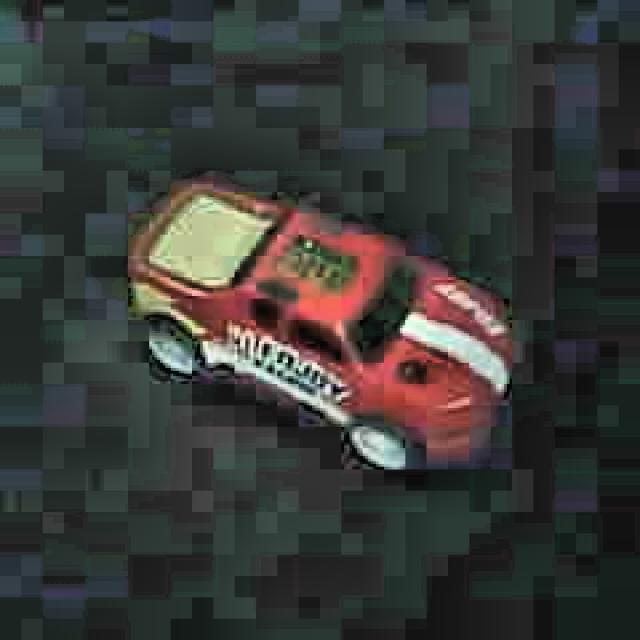car: (126, 175, 511, 478)
